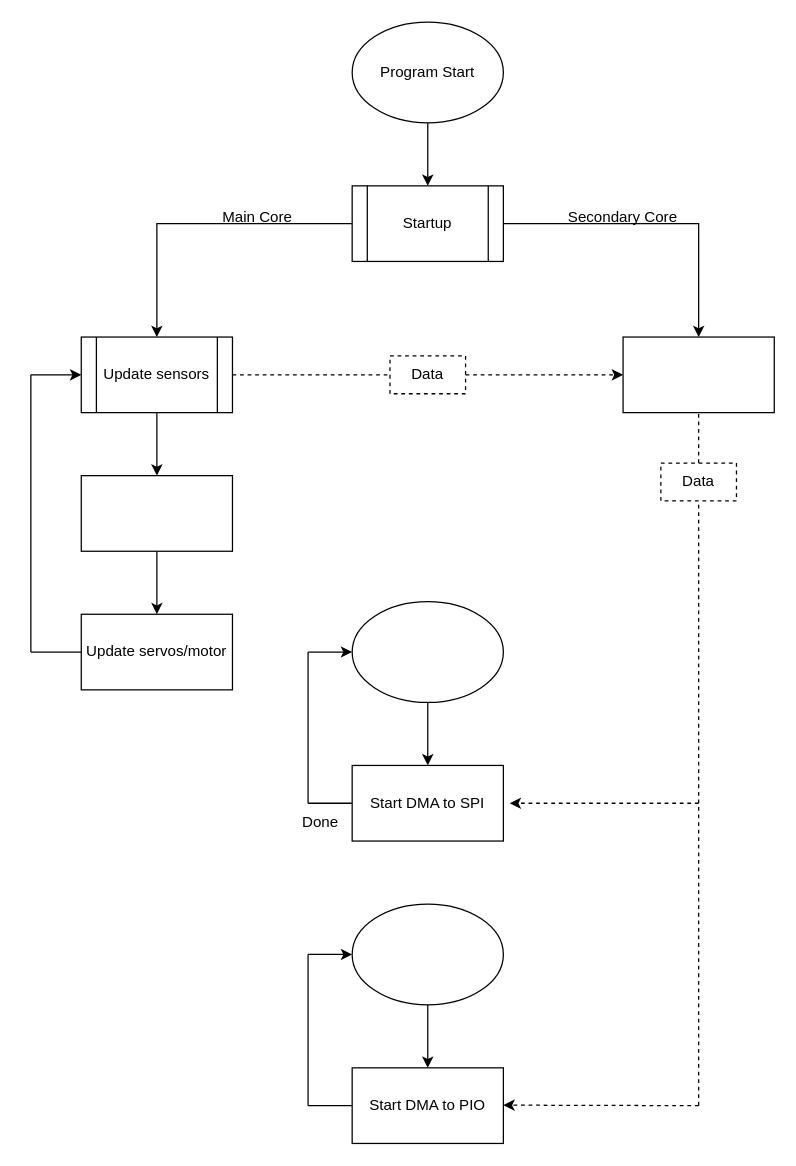
This 796x1166 diagram has some shape labels left out. Here are the shapes that lost their labels. From the top down, the centre of each, then its label:
At point (698, 374): "Update Log data".
At point (156, 512): "Update PID values".
At point (427, 651): "SD Card Storage Process".
At point (427, 954): "Update Telemetry Process".
